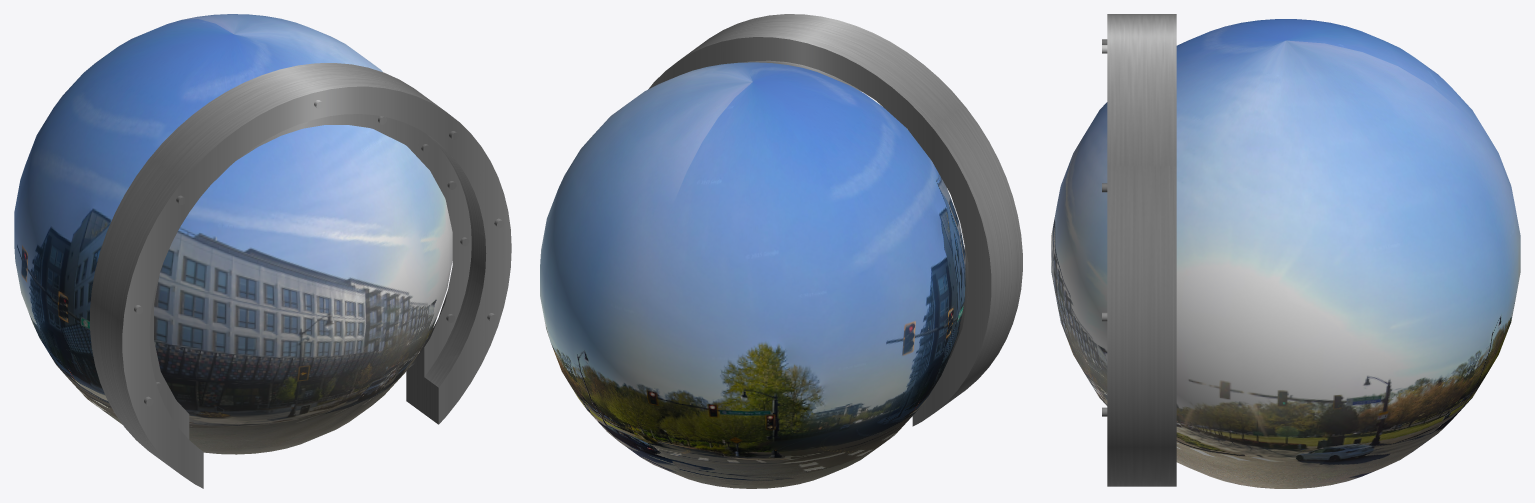
The model's file is enter_the_portal_7.glb.
3 views of the same model, side by side, from view 1: azimuth 30°, elevation 25°; view 2: azimuth 150°, elevation 25°; view 3: azimuth 270°, elevation 25° (orthographic). The views are drawn at different scales.
Parts seen in each view (by area): view 1: Sphere008, Object010_12 - Default_0; view 2: Sphere008, Object010_12 - Default_0; view 3: Sphere008, Object010_12 - Default_0.
Boxes of the visible parts, box(x1,y1,x2,y2) form: Sphere008: box(14, 14, 452, 454); Object010_12 - Default_0: box(90, 63, 511, 488); Sphere008: box(540, 62, 965, 488); Object010_12 - Default_0: box(648, 14, 1022, 426); Sphere008: box(1051, 19, 1520, 488); Object010_12 - Default_0: box(1102, 14, 1176, 486).
Bounding box in the file's own units: 3.84 × 3.8 × 3.75.
2 materials, 2 textured.
